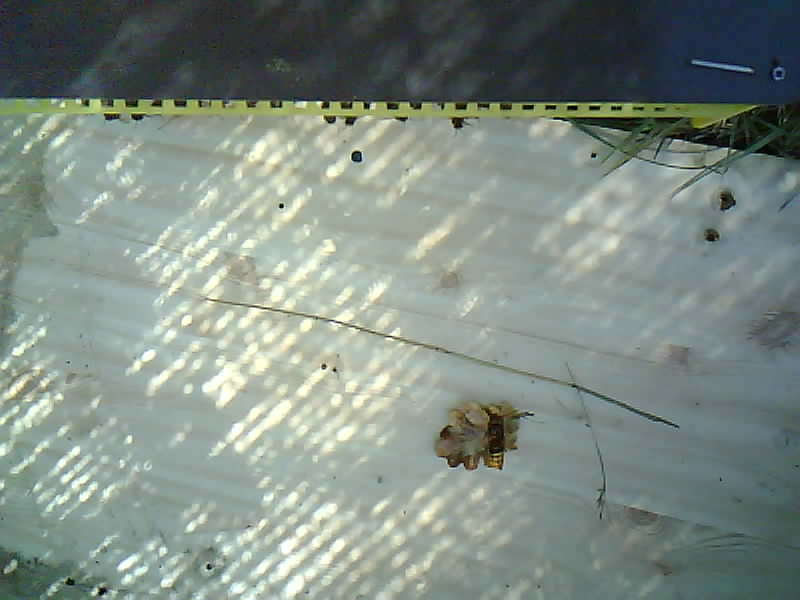hornet: (481, 417, 511, 472)
